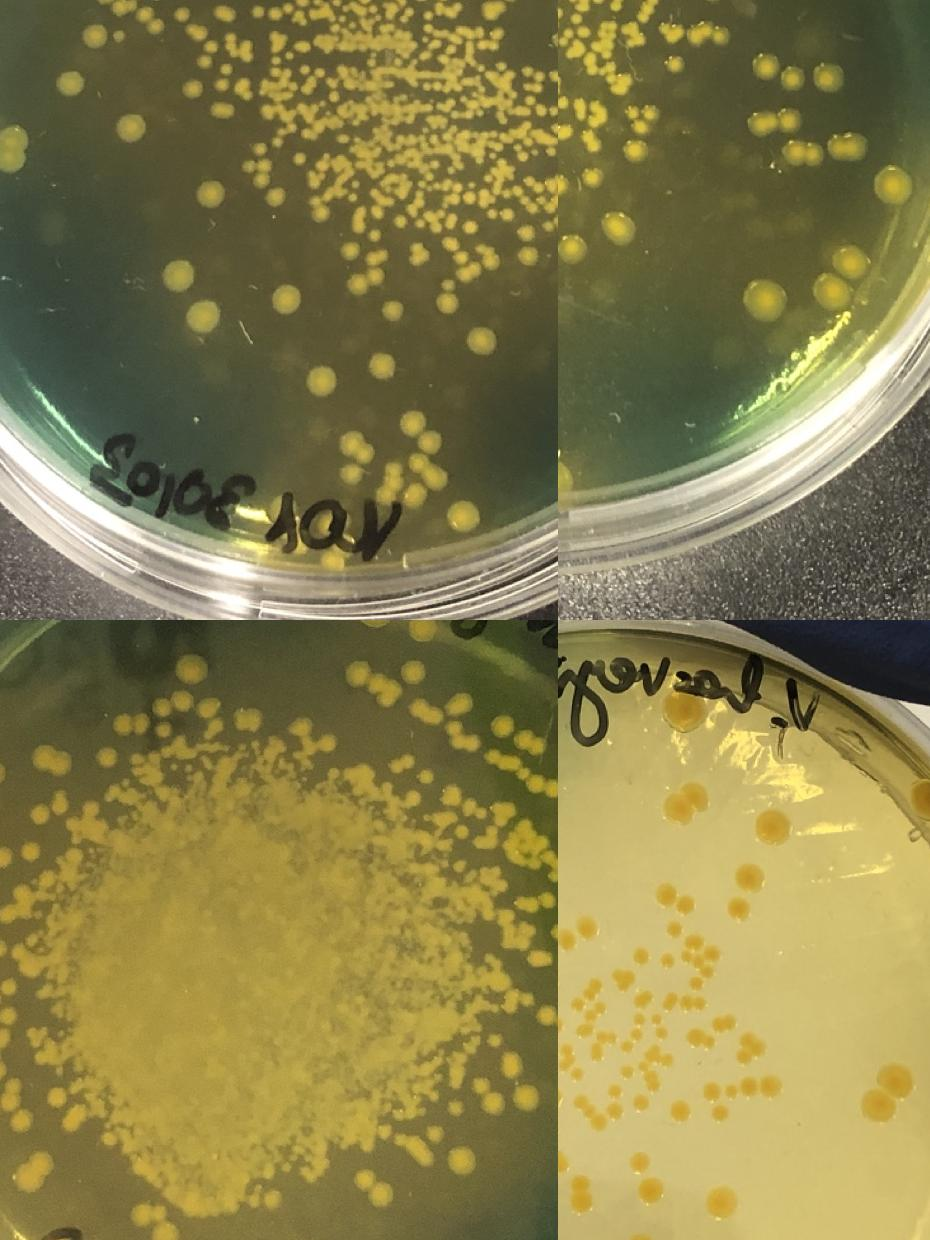sinniae: (812, 241, 872, 313), (754, 52, 808, 93), (875, 164, 915, 206), (748, 281, 786, 321), (657, 22, 706, 50), (627, 103, 663, 138), (826, 132, 869, 160), (781, 139, 823, 167), (605, 64, 633, 96), (580, 118, 603, 154), (558, 235, 586, 263), (605, 214, 633, 242), (744, 111, 772, 139), (777, 107, 805, 135), (814, 64, 842, 92), (568, 11, 592, 38), (637, 0, 660, 25), (558, 459, 572, 499), (582, 167, 604, 189), (624, 140, 646, 162), (666, 53, 688, 75), (709, 25, 731, 47), (558, 27, 575, 46), (583, 56, 599, 75), (558, 122, 573, 141), (609, 0, 626, 13), (558, 173, 566, 195), (558, 5, 564, 31), (558, 95, 569, 109)
vharveyi: (862, 1064, 914, 1122), (398, 410, 443, 474), (337, 428, 376, 488), (150, 690, 193, 740), (346, 661, 400, 699), (663, 785, 707, 827), (241, 141, 275, 187), (442, 716, 484, 753), (558, 915, 600, 952), (0, 124, 30, 175), (680, 944, 721, 980), (653, 884, 698, 916), (184, 300, 222, 336), (160, 257, 198, 293), (0, 1092, 33, 1133), (468, 1076, 504, 1112), (667, 692, 703, 728), (446, 500, 482, 534), (526, 773, 558, 811), (305, 364, 340, 398), (705, 1185, 739, 1220), (732, 860, 766, 894), (576, 1096, 608, 1132), (638, 1043, 661, 1092), (756, 811, 790, 844), (516, 224, 541, 268), (734, 1032, 767, 1065), (114, 112, 148, 144), (466, 325, 498, 357), (271, 284, 303, 316), (195, 179, 227, 211), (53, 66, 85, 98), (404, 1134, 434, 1168), (32, 746, 68, 774), (482, 746, 518, 774), (436, 278, 462, 316), (517, 890, 558, 914), (367, 350, 397, 382), (570, 1174, 594, 1214), (135, 5, 165, 36), (516, 728, 548, 756), (742, 1076, 782, 1098), (535, 1006, 558, 1043), (80, 22, 110, 50), (514, 1083, 544, 1111), (409, 698, 440, 725), (112, 713, 150, 735), (300, 64, 326, 96), (366, 1179, 394, 1207), (16, 1165, 44, 1193), (450, 1144, 478, 1172), (178, 654, 206, 682), (590, 1032, 616, 1062), (197, 39, 220, 70), (212, 62, 234, 94), (911, 782, 930, 818), (0, 975, 19, 1010), (668, 1098, 694, 1122), (382, 298, 405, 324), (262, 186, 286, 210), (638, 1178, 662, 1202), (628, 1150, 652, 1174), (727, 898, 751, 922), (512, 142, 540, 162), (410, 620, 438, 640), (686, 1028, 714, 1048), (251, 5, 283, 22), (96, 0, 130, 16), (150, 1221, 178, 1240), (36, 1070, 58, 1094), (290, 714, 312, 738), (198, 696, 220, 720), (129, 1204, 152, 1226), (426, 1122, 449, 1144), (527, 947, 549, 970), (491, 716, 514, 738), (613, 969, 635, 992), (558, 1044, 576, 1072), (500, 1055, 522, 1077), (483, 1030, 505, 1052), (12, 882, 34, 904), (19, 841, 41, 863), (29, 802, 51, 824), (491, 800, 513, 822), (94, 745, 116, 767), (451, 692, 473, 714), (402, 662, 424, 684), (59, 1112, 80, 1134), (710, 1015, 736, 1032), (340, 241, 362, 261), (446, 1098, 466, 1120), (584, 1002, 605, 1022), (0, 1005, 19, 1027), (486, 208, 515, 222), (0, 902, 18, 924), (541, 211, 558, 234), (584, 980, 602, 1000), (268, 54, 282, 78), (711, 1105, 729, 1123), (607, 1102, 625, 1120), (632, 1094, 650, 1112), (702, 1083, 720, 1101), (618, 1062, 636, 1080), (685, 932, 703, 950), (328, 78, 341, 102), (666, 921, 684, 938), (662, 994, 679, 1011), (453, 250, 469, 268), (660, 952, 676, 970), (633, 947, 649, 964), (0, 1046, 7, 1083), (462, 220, 478, 236), (490, 26, 506, 42), (550, 29, 558, 60), (0, 845, 11, 867), (292, 151, 308, 166), (175, 6, 190, 22), (570, 997, 586, 1012), (633, 993, 649, 1008), (546, 66, 558, 84), (112, 29, 126, 44), (369, 229, 382, 243), (394, 215, 407, 229), (550, 920, 558, 942), (621, 1040, 633, 1054), (656, 1026, 668, 1040), (632, 1012, 644, 1026), (691, 976, 703, 990), (414, 217, 426, 230), (524, 93, 536, 106), (241, 39, 253, 52), (651, 1013, 663, 1026), (546, 146, 558, 158), (495, 61, 507, 73), (422, 10, 434, 22), (404, 6, 416, 18), (724, 1086, 736, 1098), (609, 1086, 621, 1098), (571, 1068, 583, 1080), (661, 1054, 673, 1066), (630, 1029, 642, 1041), (577, 1025, 589, 1037), (694, 998, 706, 1010), (558, 1016, 564, 1034), (330, 0, 342, 8), (558, 1149, 563, 1167), (558, 1089, 562, 1109)
